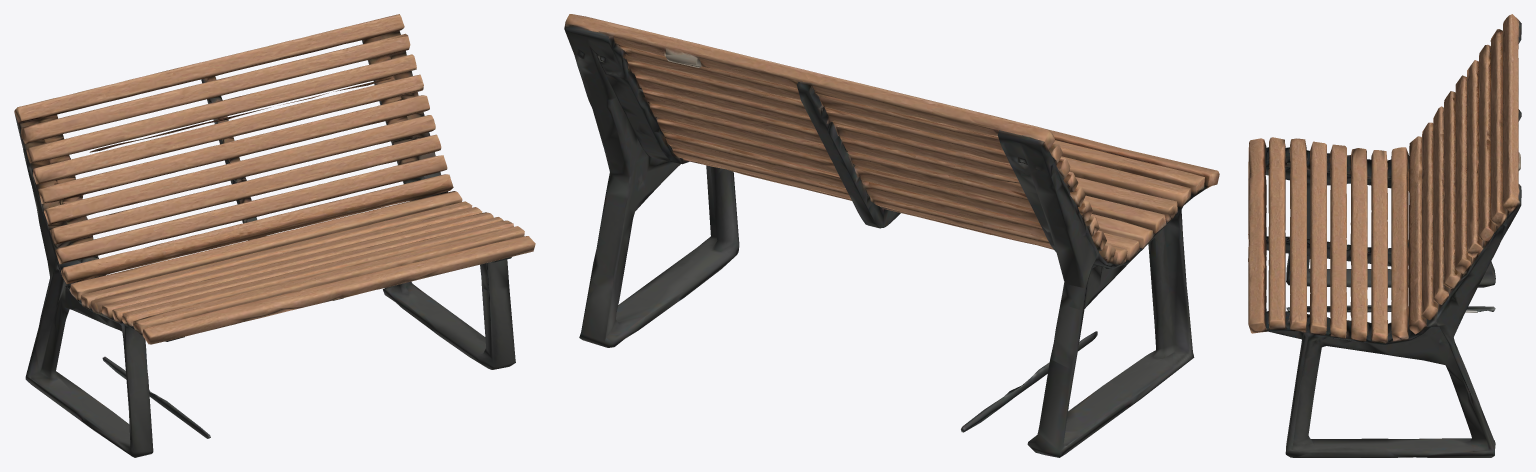
File: benchslat.glb
3 renders of one model, left to right at view 1: azimuth 30°, elevation 25°; view 2: azimuth 150°, elevation 25°; view 3: azimuth 270°, elevation 25°, orthographic. The views are drawn at different scales.
Visible parts, largest first — view 1: tripo_node_187c0388-e9b6-4828-8fcf-9b74c34d3c89; view 2: tripo_node_187c0388-e9b6-4828-8fcf-9b74c34d3c89; view 3: tripo_node_187c0388-e9b6-4828-8fcf-9b74c34d3c89.
Boxes of the visible parts, x1=… form: tripo_node_187c0388-e9b6-4828-8fcf-9b74c34d3c89: x1=14, y1=14, x2=535, y2=457; tripo_node_187c0388-e9b6-4828-8fcf-9b74c34d3c89: x1=564, y1=14, x2=1219, y2=457; tripo_node_187c0388-e9b6-4828-8fcf-9b74c34d3c89: x1=1248, y1=14, x2=1521, y2=457.
Size of the model in its own units: 1.13 by 0.7499 by 0.7093.
Materials: 1 (1 with a texture image).
